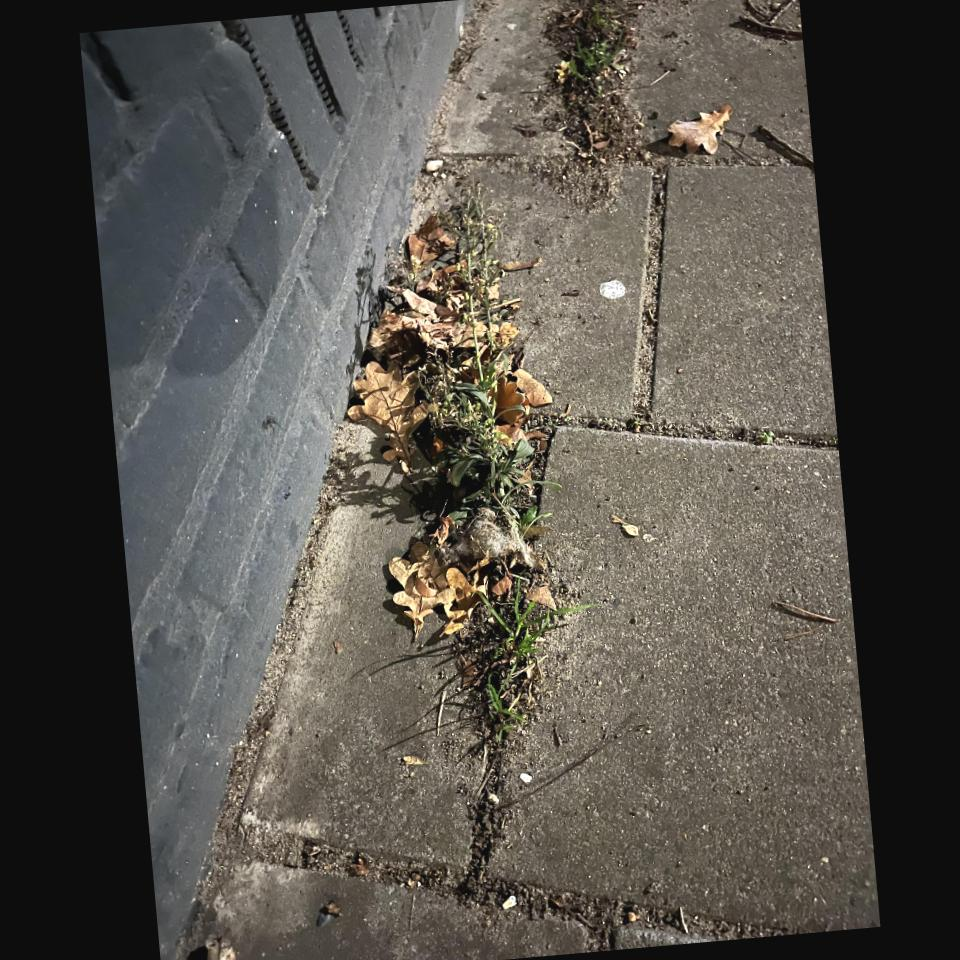weed: (474, 577, 595, 740), (431, 353, 534, 522), (546, 0, 633, 169)
